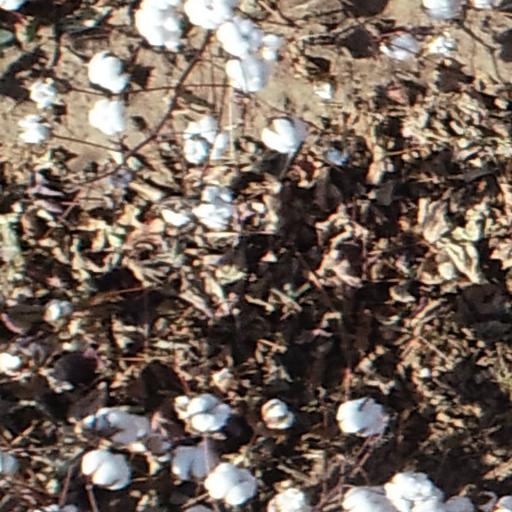Boll: (389, 470, 442, 512), (135, 1, 184, 45), (87, 408, 140, 447), (206, 461, 255, 501), (84, 451, 130, 490), (179, 397, 225, 433), (340, 398, 385, 434), (87, 53, 130, 89), (217, 22, 264, 53), (263, 116, 304, 150), (197, 191, 236, 226), (176, 445, 216, 479), (88, 100, 127, 134), (227, 60, 267, 92), (184, 2, 232, 26), (260, 397, 294, 429), (184, 120, 215, 155), (345, 489, 387, 512), (271, 489, 307, 512), (20, 115, 50, 142), (425, 1, 463, 21), (30, 78, 58, 104), (167, 203, 190, 222), (50, 303, 74, 319)
